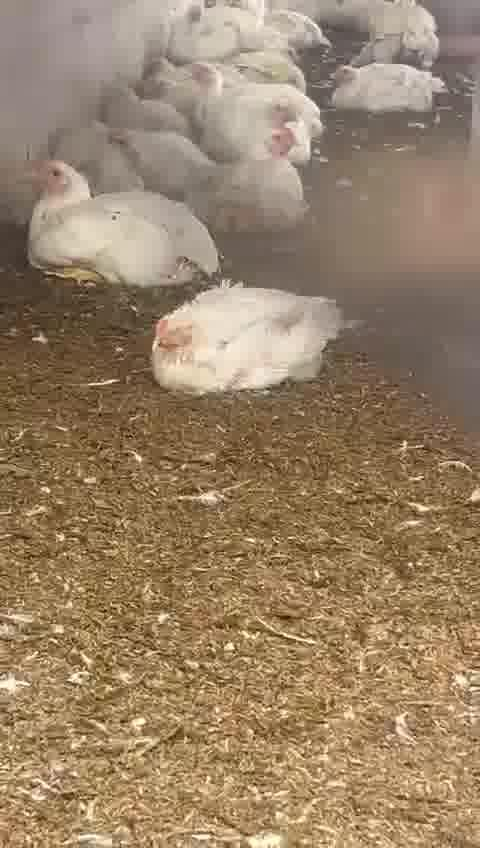AbNormal: (150, 294, 343, 393), (190, 124, 309, 229), (190, 62, 317, 146), (329, 64, 447, 114)
Normal: (21, 163, 217, 289)
